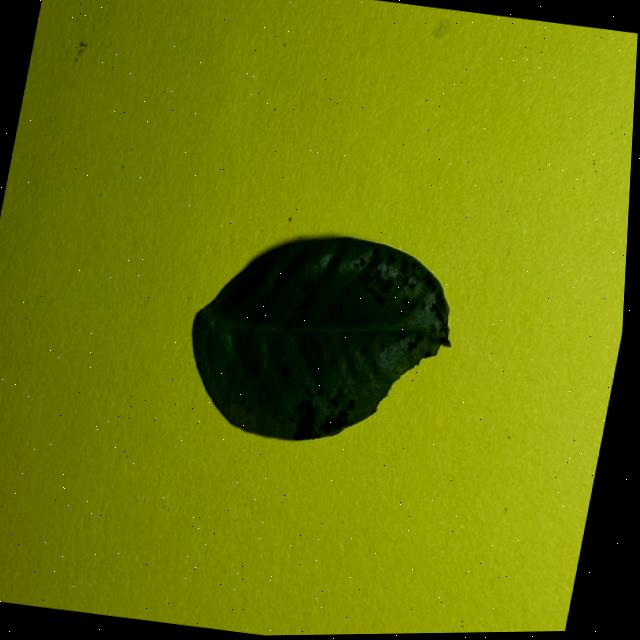sooty_mold: (193, 237, 449, 439)
